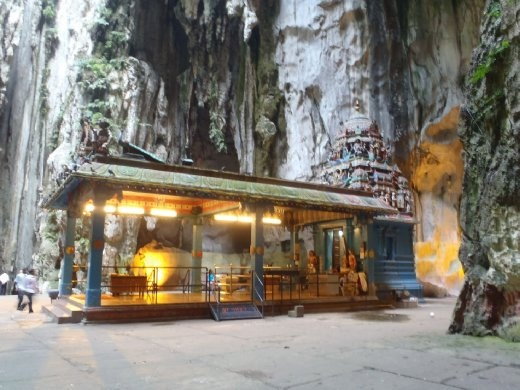Hindu Temple: (59, 116, 403, 296)
